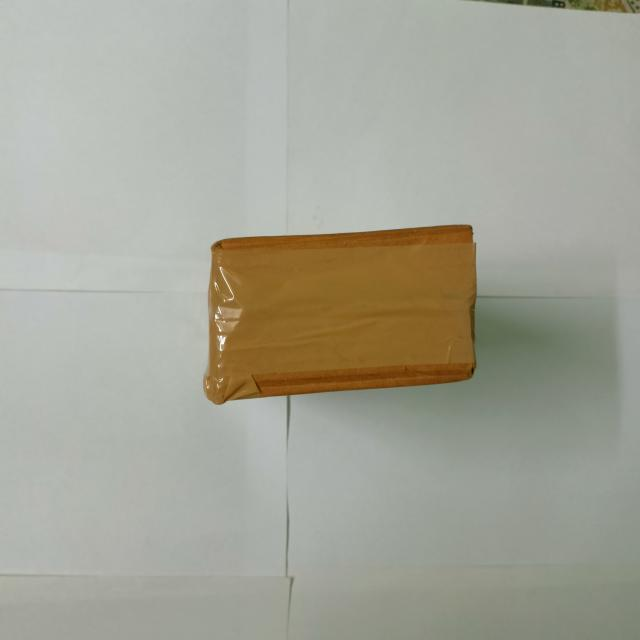box: (203, 226, 479, 408)
